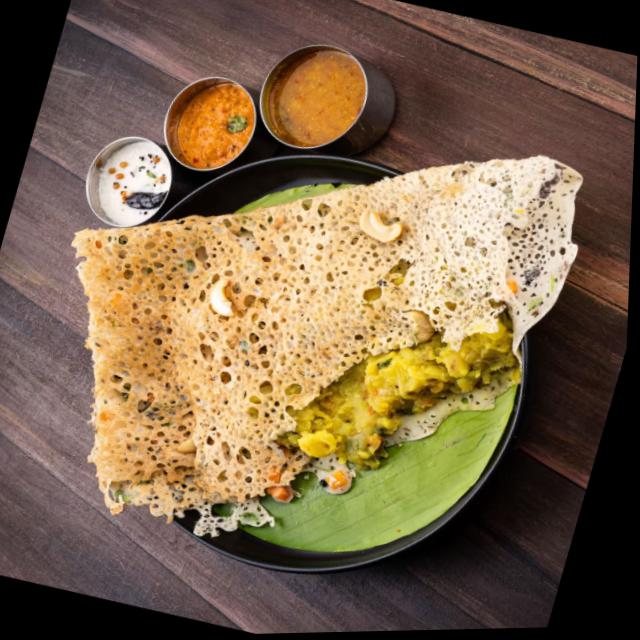DOSA: (72, 155, 582, 546)
RED CHUTNEY: (167, 79, 261, 174)
SAMBAR: (265, 43, 365, 156)
WHITE CHUTNEY: (82, 142, 183, 233)
